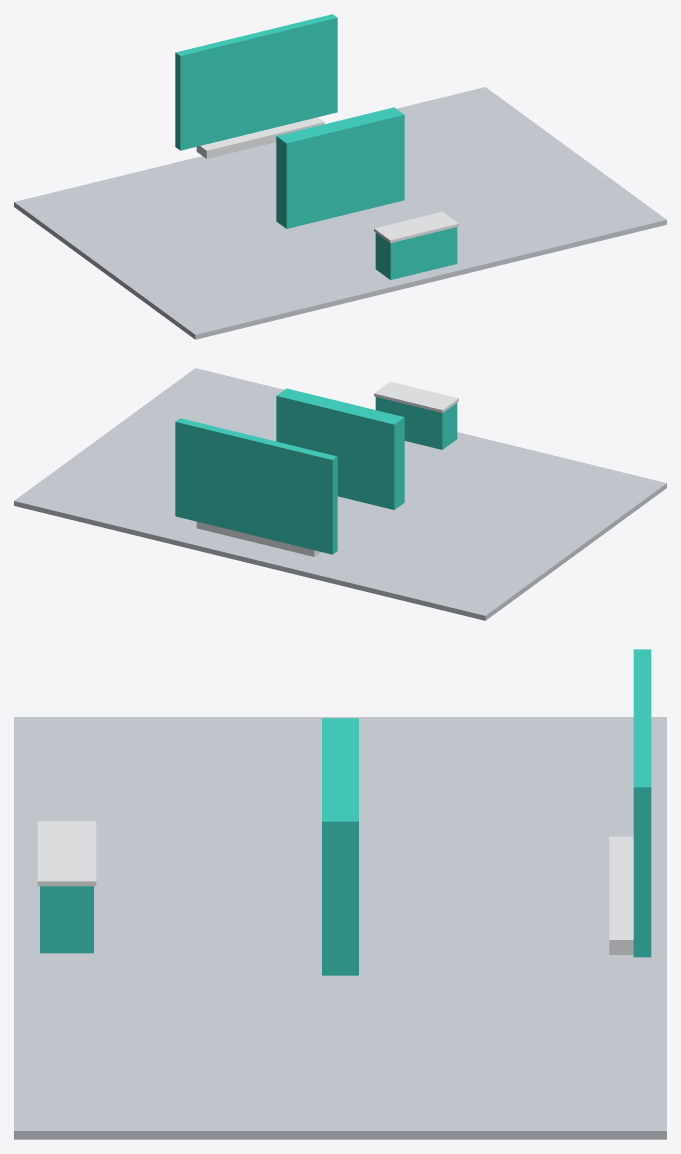
3 views of the same model, one above another, from view 1: azimuth 30°, elevation 25°; view 2: azimuth 150°, elevation 25°; view 3: azimuth 270°, elevation 25° (orthographic). The views are drawn at different scales.
Parts seen in each view (by area): view 1: Exhibition Booth Concept; view 2: Exhibition Booth Concept; view 3: Exhibition Booth Concept.
Part boxes in pixels (x1,y1,x2,y2): Exhibition Booth Concept: [14, 14, 666, 339]; Exhibition Booth Concept: [14, 368, 666, 620]; Exhibition Booth Concept: [14, 649, 666, 1139].
Size of the model in its own units: 12 by 2.9 by 8.
